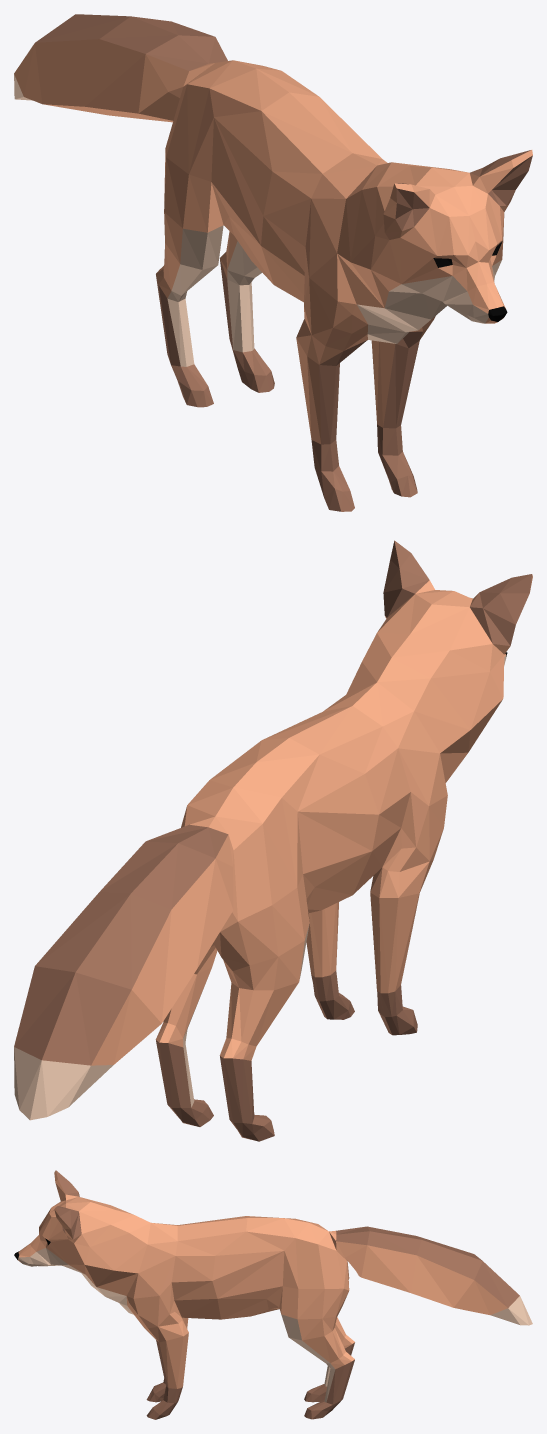
The model's file is fox.gltf.
3 renders of one model, top to bottom at view 1: azimuth 30°, elevation 25°; view 2: azimuth 150°, elevation 25°; view 3: azimuth 270°, elevation 25°, orthographic. The views are drawn at different scales.
Parts seen in each view (by area): view 1: fox_colorMap; view 2: fox_colorMap; view 3: fox_colorMap.
Boxes of the visible parts, x1,y1,x2,y2 form: fox_colorMap: [14, 14, 532, 511]; fox_colorMap: [14, 540, 532, 1141]; fox_colorMap: [14, 1170, 532, 1419].
Bounding box in the file's own units: 19.24 × 52.55 × 113.
